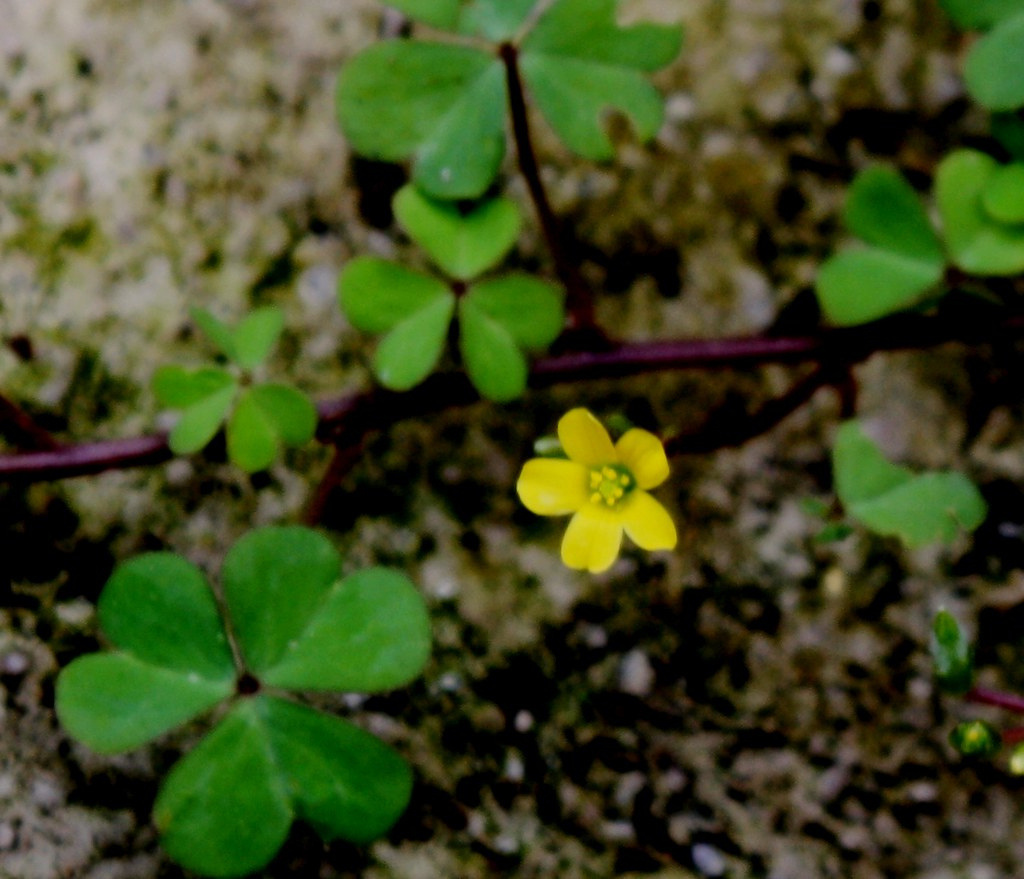oxalis: (62, 493, 451, 871), (308, 22, 629, 399), (779, 314, 1011, 622), (821, 52, 1022, 324)
